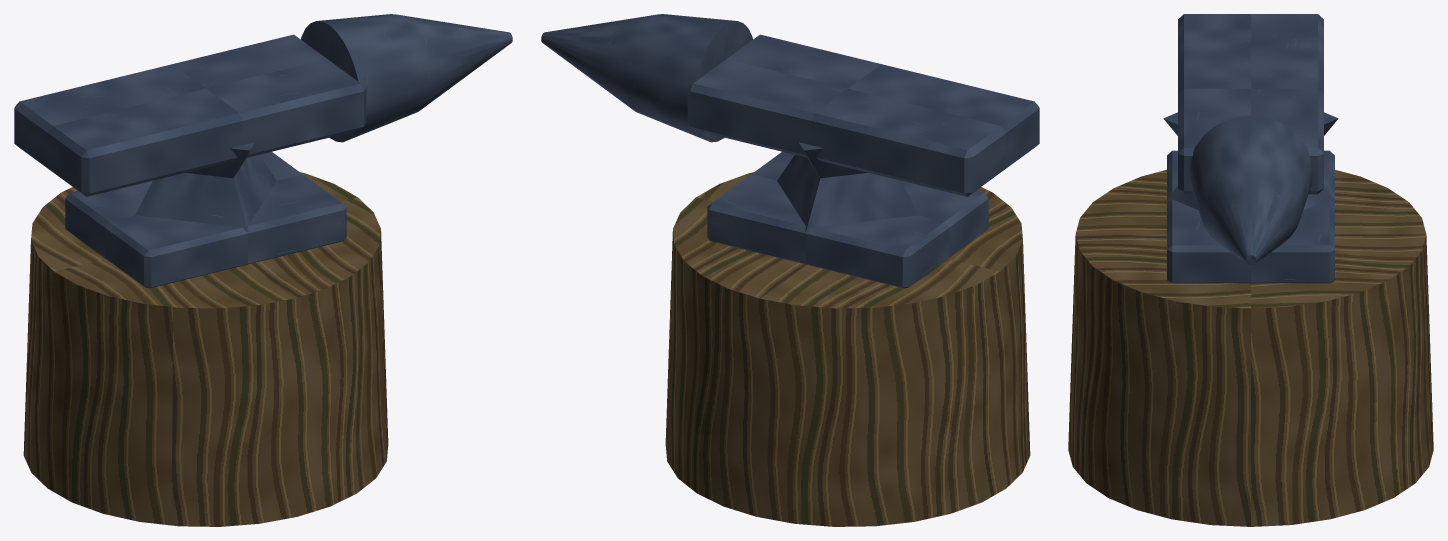
The model's file is Anvil.fbx.
The picture shows the model from 3 angles, left to right: view 1: azimuth 30°, elevation 25°; view 2: azimuth 150°, elevation 25°; view 3: azimuth 270°, elevation 25°; orthographic projection.
Parts seen in each view (by area): view 1: Anvil.001; view 2: Anvil.001; view 3: Anvil.001.
Boxes of the visible parts, box(x1,y1,x2,y2) form: Anvil.001: box(14, 14, 512, 526); Anvil.001: box(541, 14, 1039, 526); Anvil.001: box(1068, 14, 1433, 526).
Size of the model in its own units: 146 by 119 by 100.
2 materials, 2 textured.
